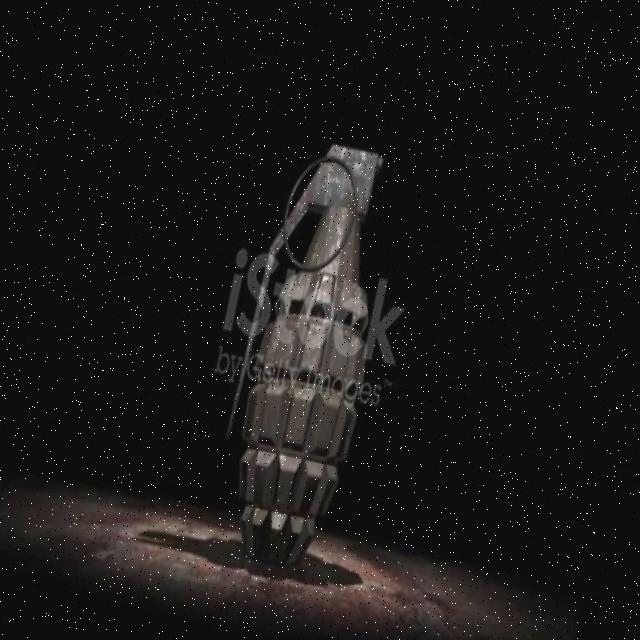grenade: (199, 108, 418, 582)
